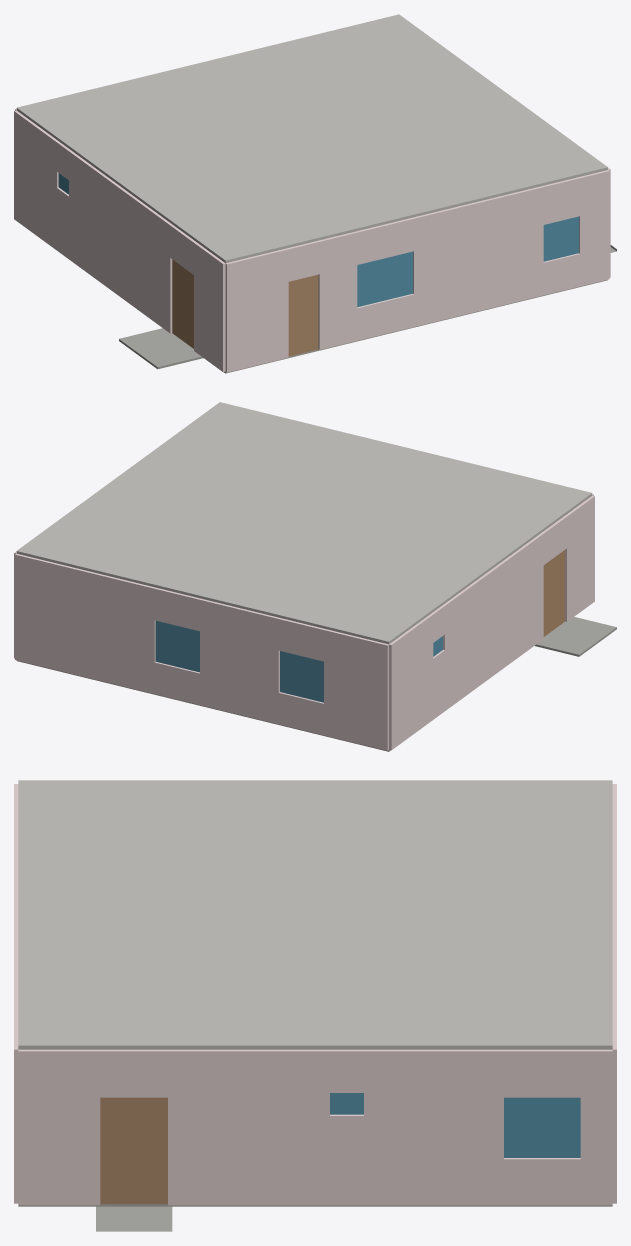
The model's file is 3BHK_02.glb.
3 views of the same model, one above another, from view 1: azimuth 30°, elevation 25°; view 2: azimuth 150°, elevation 25°; view 3: azimuth 270°, elevation 25° (orthographic). The views are drawn at different scales.
Visible parts, largest first — view 1: Roof, Wall_W001, Wall_W003, Wall_W002, Wall_W007, Wall_W015, Wall_W026, Window_WN01, Door_D_ENTRY, Balcony_BAL_MAIN, Door_D_BAL_01, Window_WN02 (+1 smaller); view 2: Roof, Wall_W029, Wall_W027, Wall_W028, Wall_W002, Wall_W007, Wall_W015, Wall_W026, Window_WN04, Balcony_BAL_MAIN, Window_WN03, Door_D_BAL_01 (+1 smaller); view 3: Roof, Wall_W024, Wall_W005, Wall_W013, Door_D_BAL_02, Window_WN05, Balcony_BAL_DRY, Wall_W003, Floor, Wall_W029, Wall_W001, Window_WN06.
Boxes of the visible parts, box(x1,y1,x2,y2) form: Roof: box(16, 14, 607, 263); Wall_W001: box(225, 206, 460, 372); Wall_W003: box(459, 170, 609, 315); Wall_W002: box(141, 203, 225, 371); Wall_W007: box(91, 167, 143, 311); Wall_W015: box(49, 136, 93, 275); Wall_W026: box(14, 110, 51, 244); Window_WN01: box(357, 251, 412, 307); Door_D_ENTRY: box(288, 274, 318, 356); Balcony_BAL_MAIN: box(119, 328, 203, 369); Door_D_BAL_01: box(172, 259, 193, 348); Window_WN02: box(543, 216, 578, 261); Roof: box(16, 402, 592, 644); Wall_W029: box(15, 553, 138, 689); Wall_W027: box(261, 613, 388, 750); Wall_W028: box(138, 583, 261, 719); Wall_W002: box(513, 495, 594, 659); Wall_W007: box(464, 553, 515, 694); Wall_W015: box(424, 589, 466, 724); Wall_W026: box(389, 619, 425, 750); Window_WN04: box(155, 620, 199, 672); Balcony_BAL_MAIN: box(535, 617, 616, 656); Window_WN03: box(280, 651, 323, 702); Door_D_BAL_01: box(543, 550, 564, 636); Roof: box(18, 780, 612, 1049); Wall_W024: box(392, 1049, 612, 1205); Wall_W005: box(18, 1049, 249, 1205); Wall_W013: box(250, 1049, 392, 1205); Door_D_BAL_02: box(100, 1097, 167, 1203); Window_WN05: box(504, 1097, 580, 1157); Balcony_BAL_DRY: box(96, 1204, 172, 1231); Wall_W003: box(14, 946, 18, 1203); Floor: box(18, 1204, 612, 1206); Wall_W029: box(612, 962, 616, 1203); Wall_W001: box(14, 784, 18, 945); Window_WN06: box(330, 1093, 363, 1114).
Bounding box in the file's own units: 13.72 × 3.18 × 10.82.
